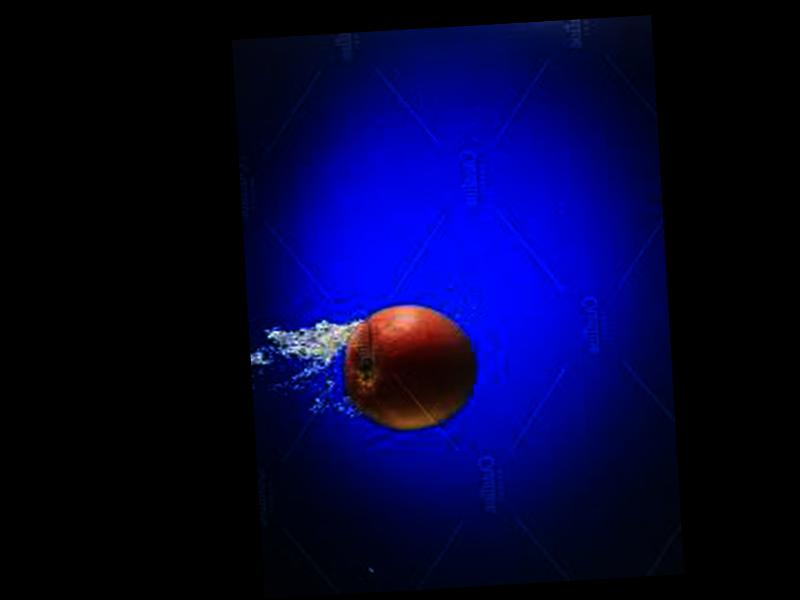Tomato: (340, 301, 475, 435)
